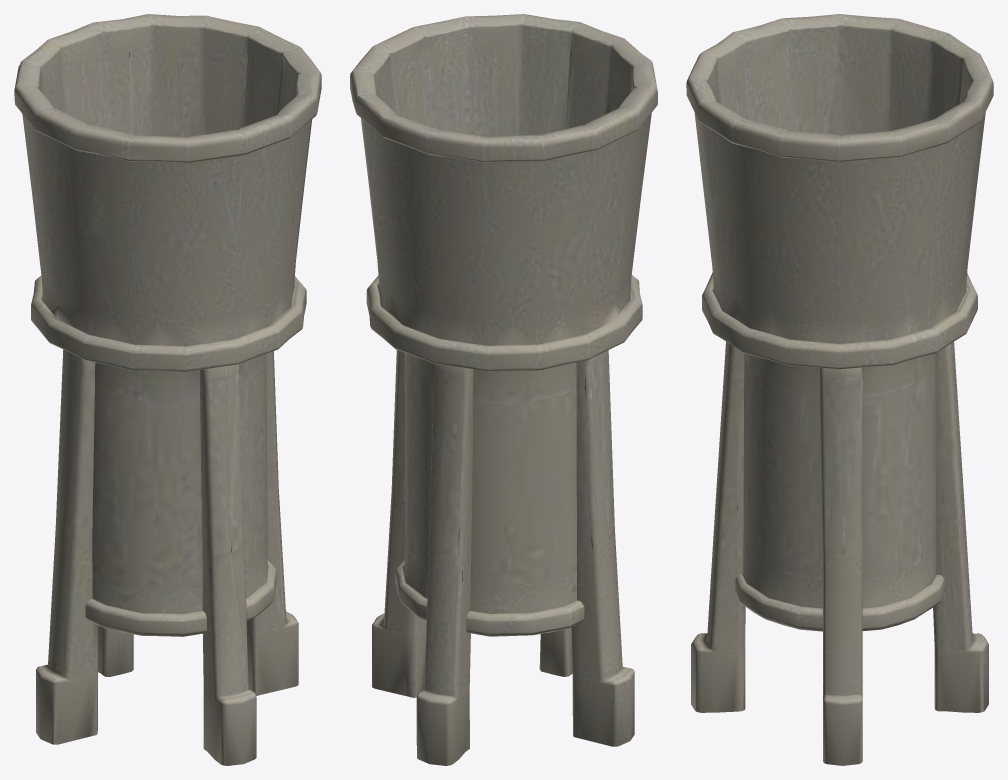
Rendered from 25-water-tower.glb.
3 renders of one model, left to right at view 1: azimuth 30°, elevation 25°; view 2: azimuth 150°, elevation 25°; view 3: azimuth 270°, elevation 25°, orthographic.
Parts seen in each view (by area): view 1: geometry_0; view 2: geometry_0; view 3: geometry_0.
Boxes of the visible parts, x1=… form: geometry_0: x1=14, y1=14, x2=321, y2=765; geometry_0: x1=350, y1=14, x2=657, y2=765; geometry_0: x1=686, y1=14, x2=993, y2=765.
Size of the model in its own units: 0.4213 by 0.9502 by 0.4213.
Materials: 1 (1 with a texture image).
